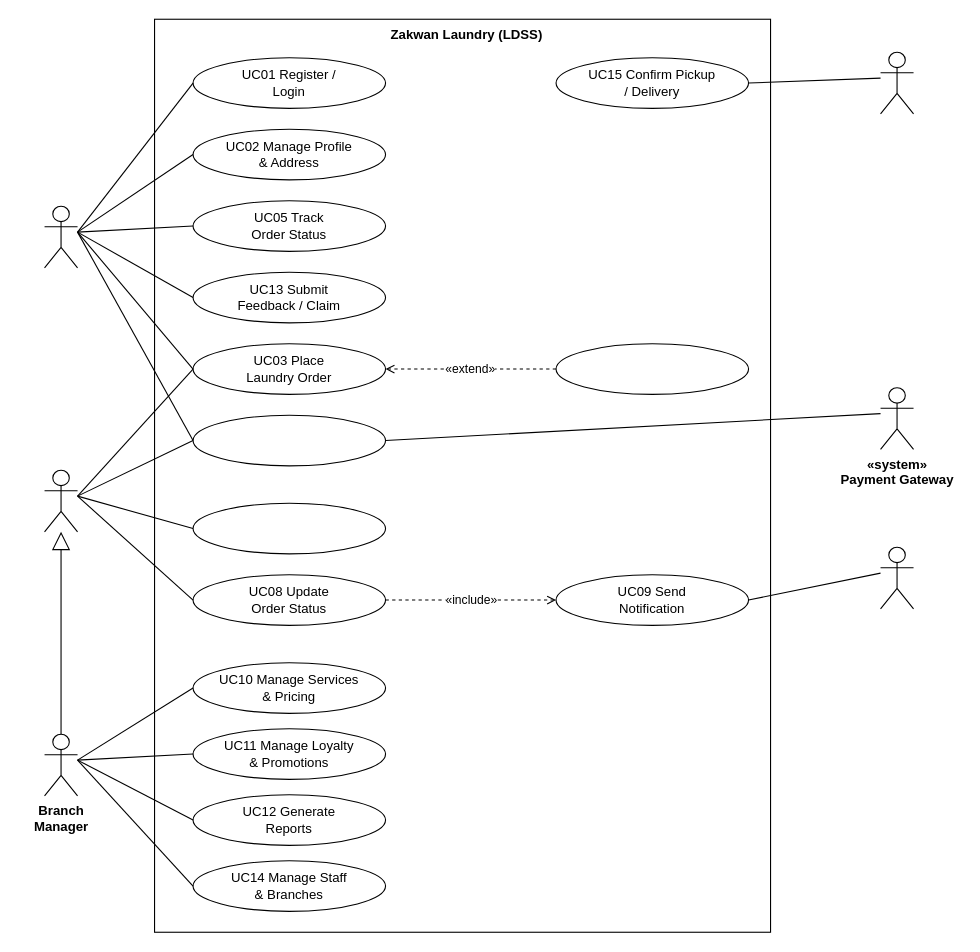
Some shapes in this 980 by 952 pixel diagram are drawn without their labels. Here are the shapes that lost their labels. From the top down, the box of each, then its label:
(879, 51, 914, 114): Delivery Rider
(43, 205, 78, 268): Customer
(555, 343, 749, 394): UC04 Schedule Pickup & Delivery
(192, 414, 386, 466): UC06 Make Payment
(43, 469, 78, 532): Counter Staff
(192, 502, 386, 554): UC07 Tag Items & Print Receipt
(879, 546, 914, 609): «system» SMS/E-mail Gateway
